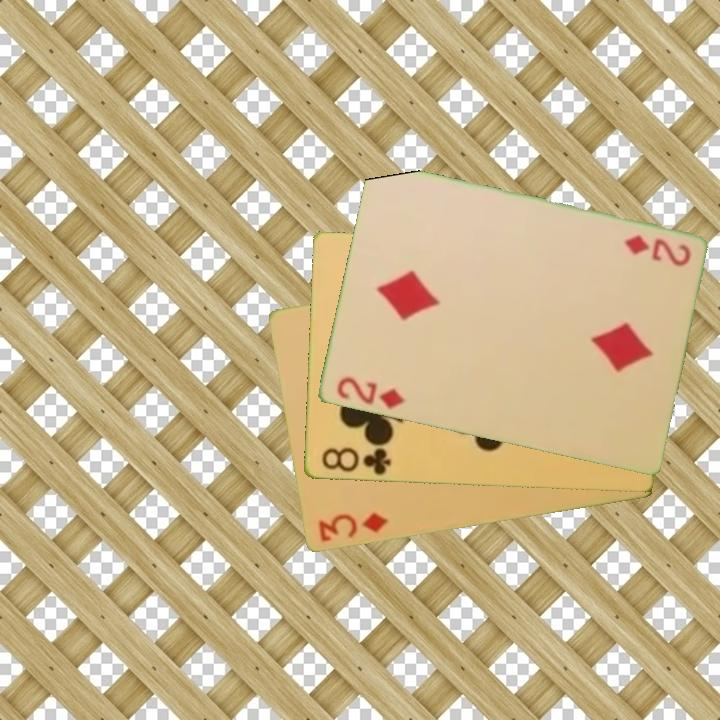2d: (333, 373, 408, 412), (621, 231, 694, 269)
3d: (314, 509, 392, 546)
8c: (318, 444, 394, 479)
